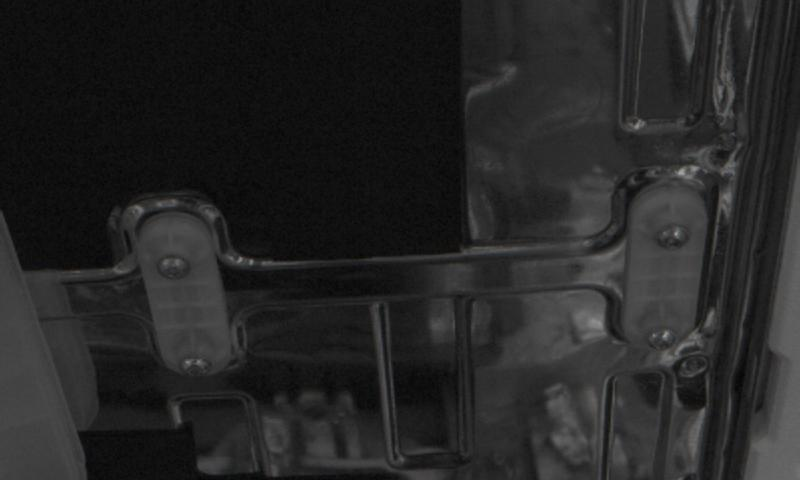vida-ok: (647, 210, 694, 253), (147, 247, 192, 291), (638, 323, 684, 363), (170, 347, 215, 387)
